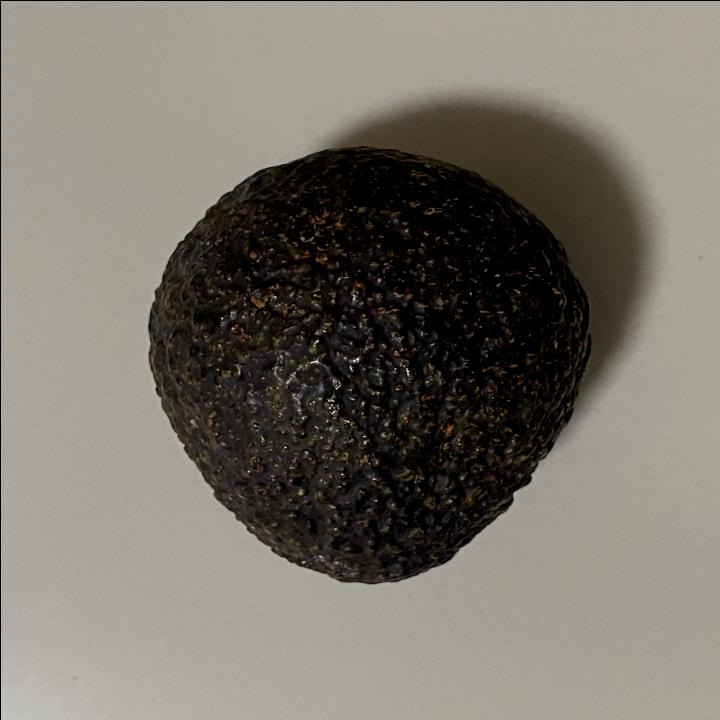Level2: (141, 141, 601, 590)
